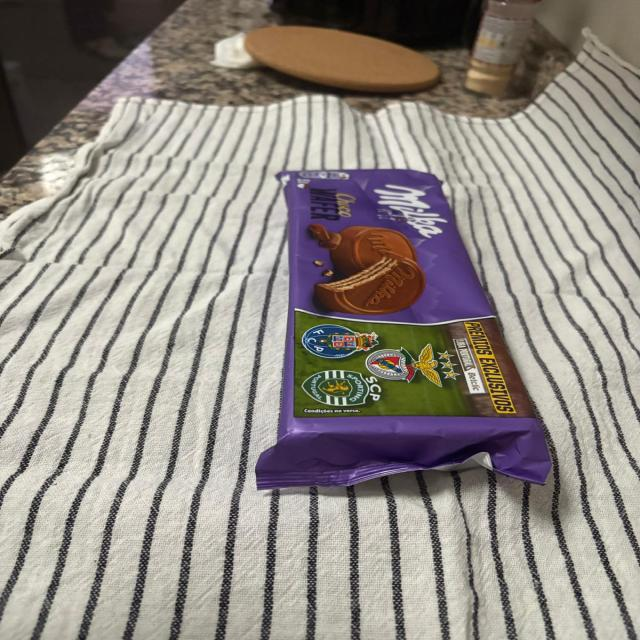good_package: (257, 169, 550, 489)
